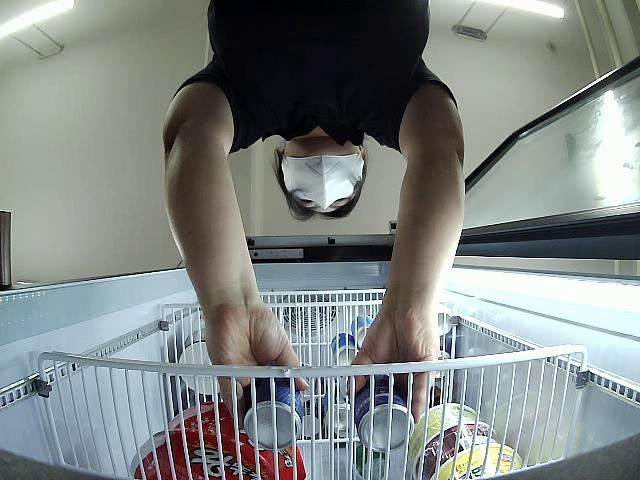00_hand: (207, 305, 308, 427), (347, 315, 440, 418)
16_hot6: (352, 381, 418, 453), (241, 377, 303, 452)
